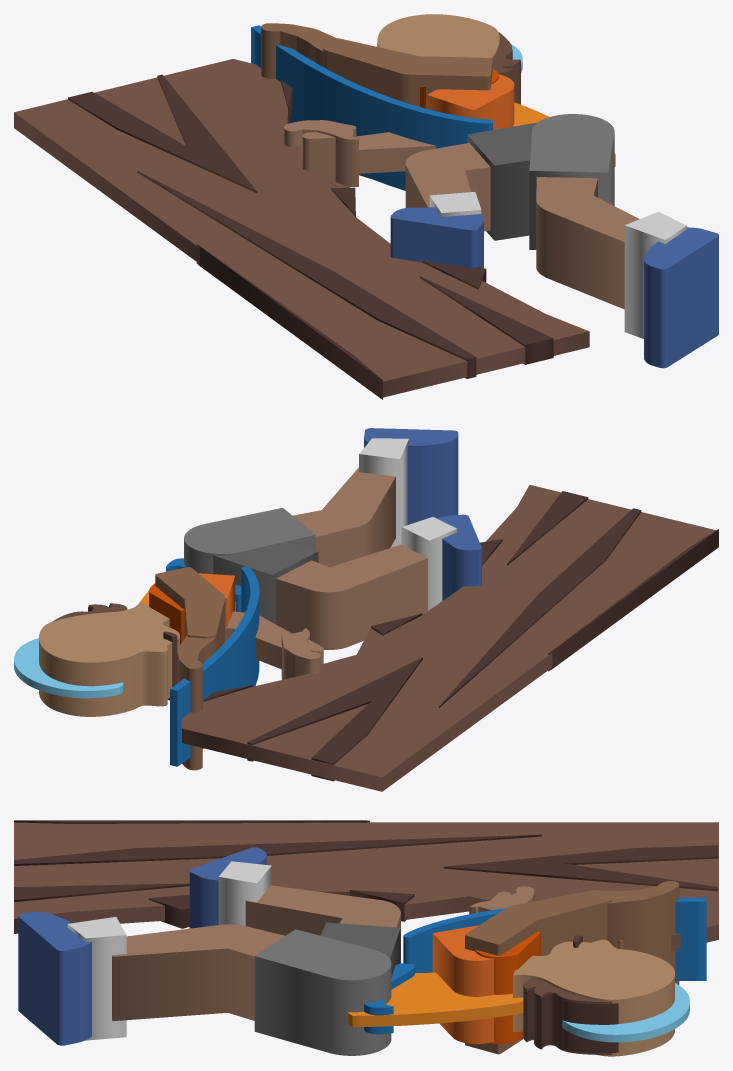
The model's file is emoji_u1f9d7_1f3fd.glb.
3 renders of one model, top to bottom at view 1: azimuth 30°, elevation 25°; view 2: azimuth 150°, elevation 25°; view 3: azimuth 270°, elevation 25°, orthographic. The views are drawn at different scales.
Visible parts, largest first — view 1: emoji_u1f9d7_1f3fd; view 2: emoji_u1f9d7_1f3fd; view 3: emoji_u1f9d7_1f3fd.
Boxes of the visible parts, x1=… form: emoji_u1f9d7_1f3fd: x1=14, y1=14, x2=718, y2=399; emoji_u1f9d7_1f3fd: x1=14, y1=428, x2=718, y2=791; emoji_u1f9d7_1f3fd: x1=14, y1=820, x2=718, y2=1056.
Size of the model in its own units: 0.0237 by 0.0058 by 0.0338.
